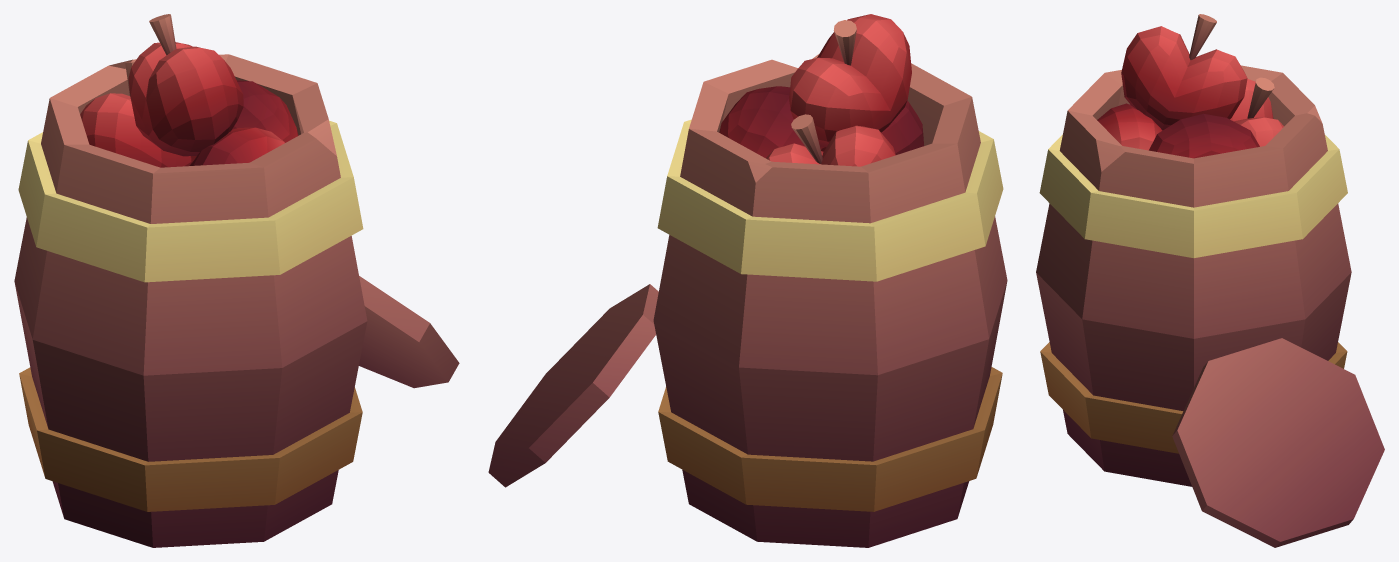
File: FilledBarel.fbx
The picture shows the model from 3 angles, left to right: view 1: azimuth 30°, elevation 25°; view 2: azimuth 150°, elevation 25°; view 3: azimuth 270°, elevation 25°; orthographic projection. The views are drawn at different scales.
Visible parts, largest first — view 1: FilledBarel_Mesh; view 2: FilledBarel_Mesh; view 3: FilledBarel_Mesh.
Part boxes in pixels (x1,y1,x2,y2): FilledBarel_Mesh: (14, 14, 459, 547); FilledBarel_Mesh: (488, 14, 1007, 547); FilledBarel_Mesh: (1036, 14, 1384, 547).
Bounding box in the file's own units: 374 × 384 × 296.
